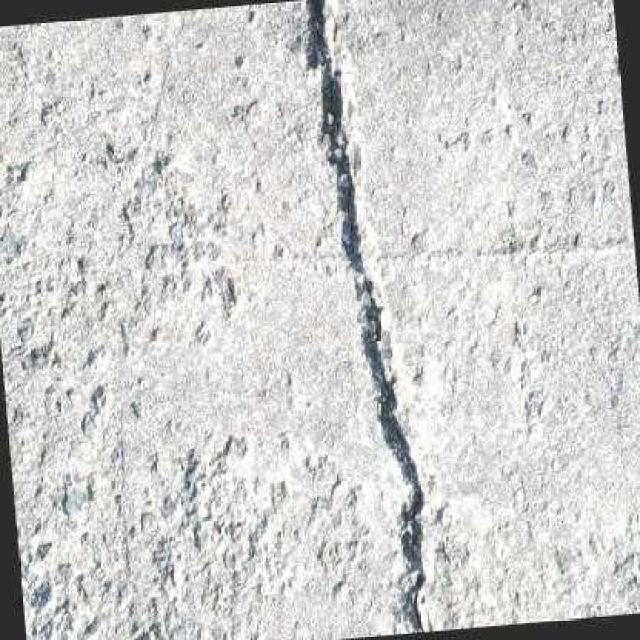D00: (305, 0, 431, 633)
